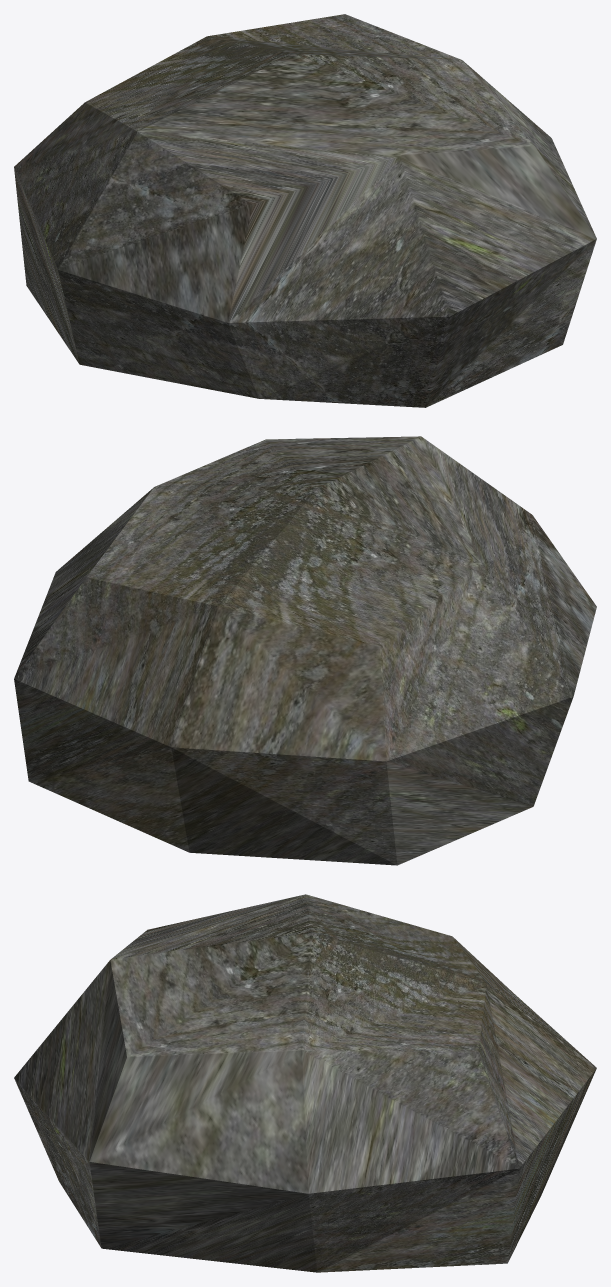
Rendered from rock_00.obj.
3 renders of one model, top to bottom at view 1: azimuth 30°, elevation 25°; view 2: azimuth 150°, elevation 25°; view 3: azimuth 270°, elevation 25°, orthographic. The views are drawn at different scales.
Visible parts, largest first — view 1: rock; view 2: rock; view 3: rock.
Part boxes in pixels (bbox=[...]): rock: bbox=[14, 14, 596, 407]; rock: bbox=[14, 436, 596, 865]; rock: bbox=[14, 894, 596, 1272].
Bounding box in the file's own units: 0.9521 × 0.5205 × 1.
1 material, 1 textured.
